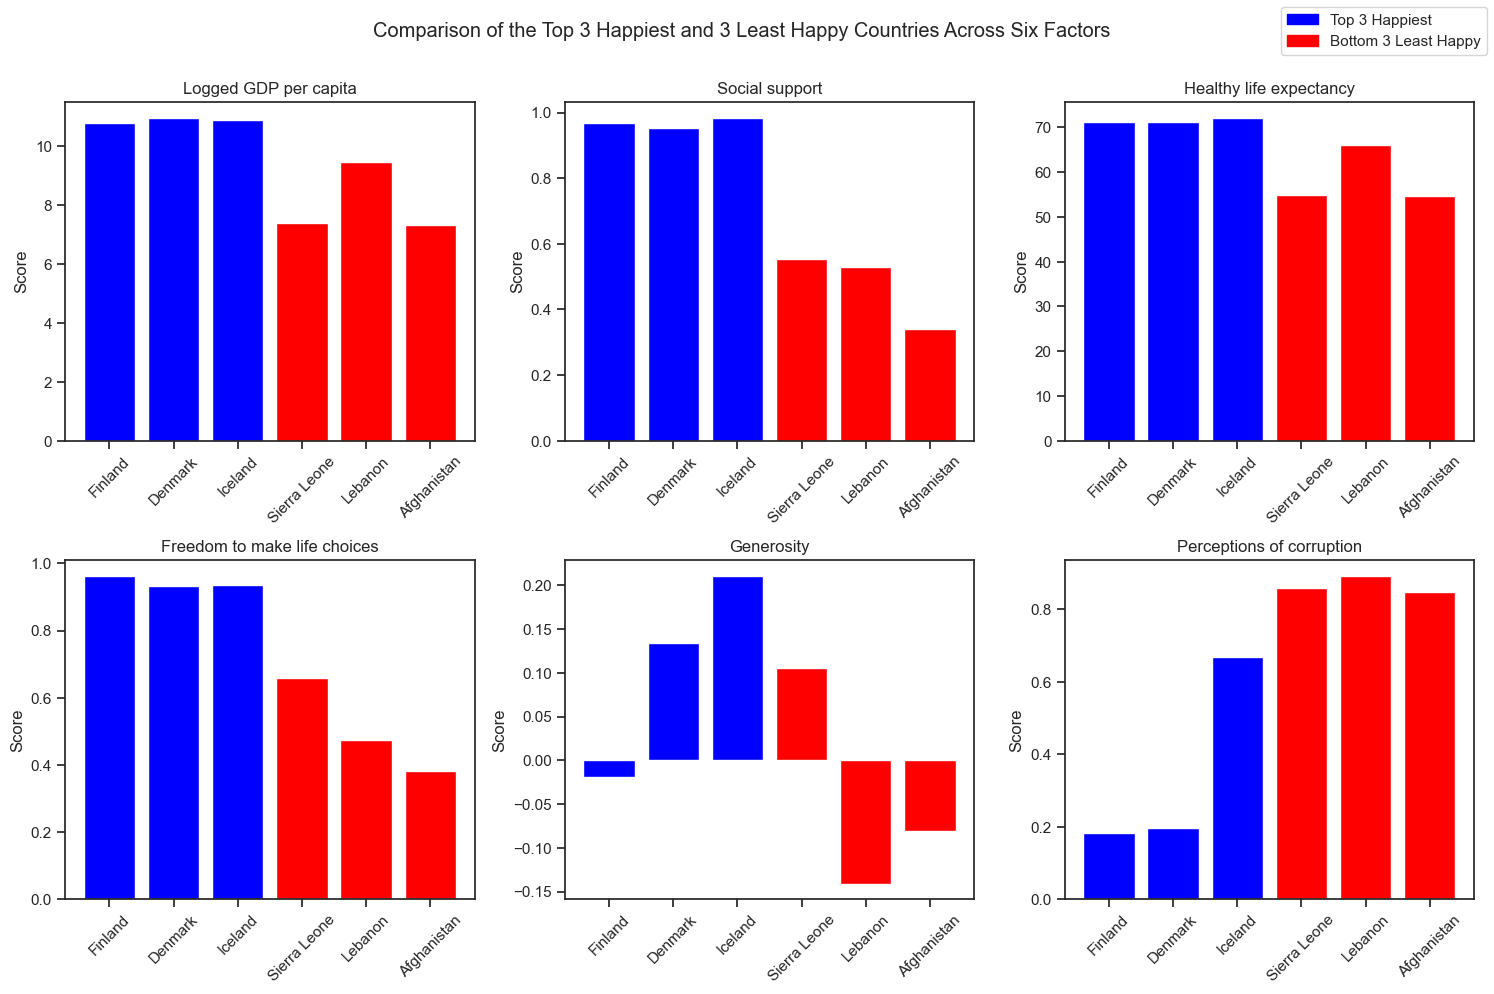

The dashboard page shown, as its layout file describes it:
{"tool":"tableau","page":{"name":"Dashboard 1","canvas":[1000,800],"ordinal":0},"visuals":[{"type":"worksheet","title":"Sheet 3","mark":"Automatic","rows":["fall","Meteorite_Landings_20231028.csv_1F803E414B8C4B4B9D0B80996B7E"],"cols":["year"],"box":[8,8,984,441]},{"type":"worksheet","title":"Sheet 1","mark":"Automatic","rows":["name"],"cols":["mass (g)"],"box":[8,449,492,343]},{"type":"worksheet","title":"Sheet 2","mark":"Automatic","rows":["recclass"],"cols":["recclass"],"box":[500,449,492,343]}]}

Visuals, with their boxes on the page's 1000x800 design canvas (x1, y1, x2, y2). These are canvas units, not pixel positions in the 1494x994 screenshot, which may show the page scaled, cropped or inside an application window:
"Sheet 3" worksheet: (left=8, top=8, right=992, bottom=449)
"Sheet 1" worksheet: (left=8, top=449, right=500, bottom=792)
"Sheet 2" worksheet: (left=500, top=449, right=992, bottom=792)
